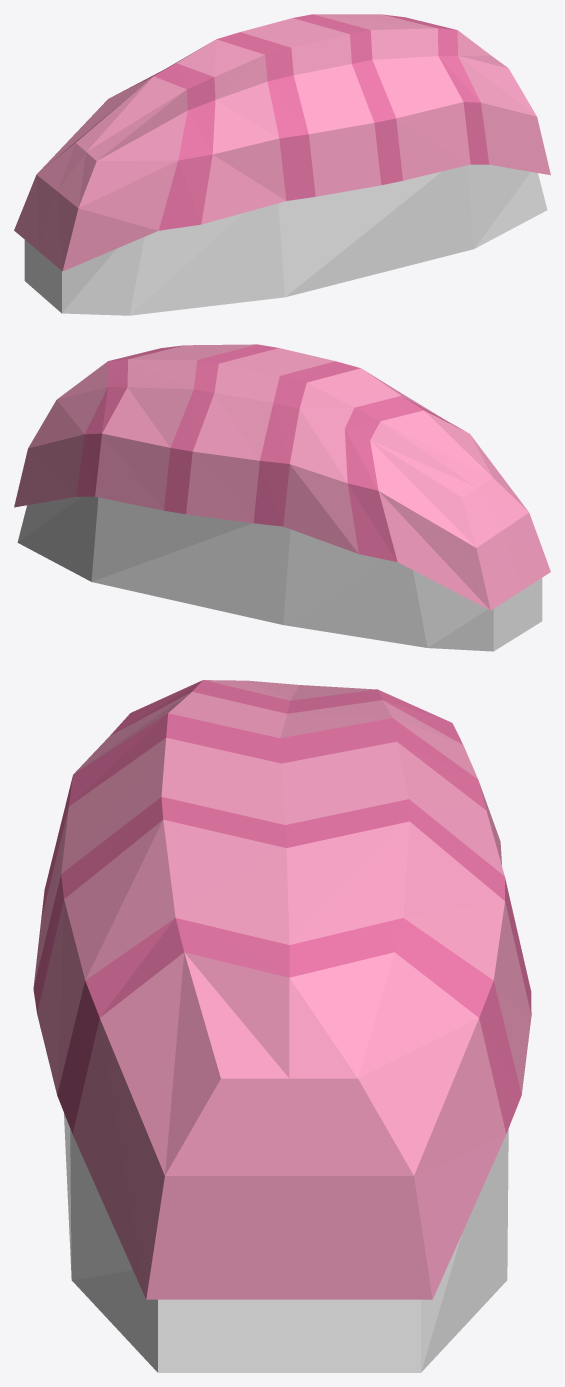
File: Sushi_Nigiri2.obj
The picture shows the model from 3 angles, top to bottom: view 1: azimuth 30°, elevation 25°; view 2: azimuth 150°, elevation 25°; view 3: azimuth 270°, elevation 25°; orthographic projection. The views are drawn at different scales.
Visible parts, largest first — view 1: Sushi_Nigiri2_PalePink, Sushi_Nigiri2_White, Sushi_Nigiri2_PalePink2; view 2: Sushi_Nigiri2_PalePink, Sushi_Nigiri2_White, Sushi_Nigiri2_PalePink2; view 3: Sushi_Nigiri2_PalePink, Sushi_Nigiri2_PalePink2, Sushi_Nigiri2_White.
Part boxes in pixels (left/top/right/bottom): Sushi_Nigiri2_PalePink: left=14, top=14, right=550, bottom=271; Sushi_Nigiri2_White: left=24, top=164, right=547, bottom=315; Sushi_Nigiri2_PalePink2: left=109, top=14, right=489, bottom=230; Sushi_Nigiri2_PalePink: left=14, top=344, right=550, bottom=610; Sushi_Nigiri2_White: left=17, top=496, right=542, bottom=651; Sushi_Nigiri2_PalePink2: left=76, top=344, right=464, bottom=561; Sushi_Nigiri2_PalePink: left=33, top=680, right=531, bottom=1299; Sushi_Nigiri2_PalePink2: left=33, top=680, right=531, bottom=1133; Sushi_Nigiri2_White: left=64, top=1113, right=508, bottom=1372.
Size of the model in its own units: 0.5976 by 0.2344 by 0.2716.
